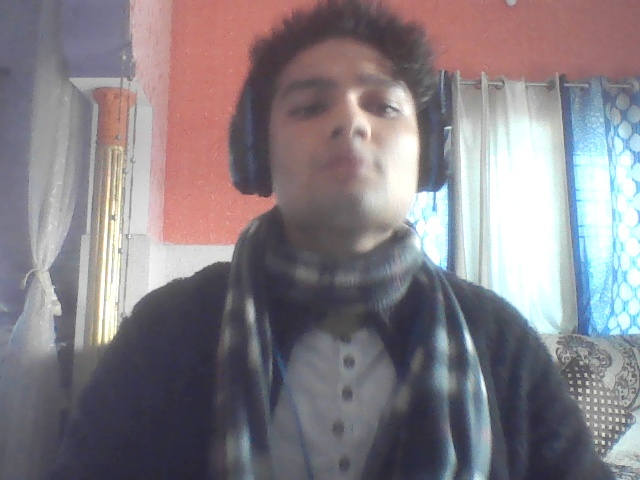real: (251, 0, 432, 256)
